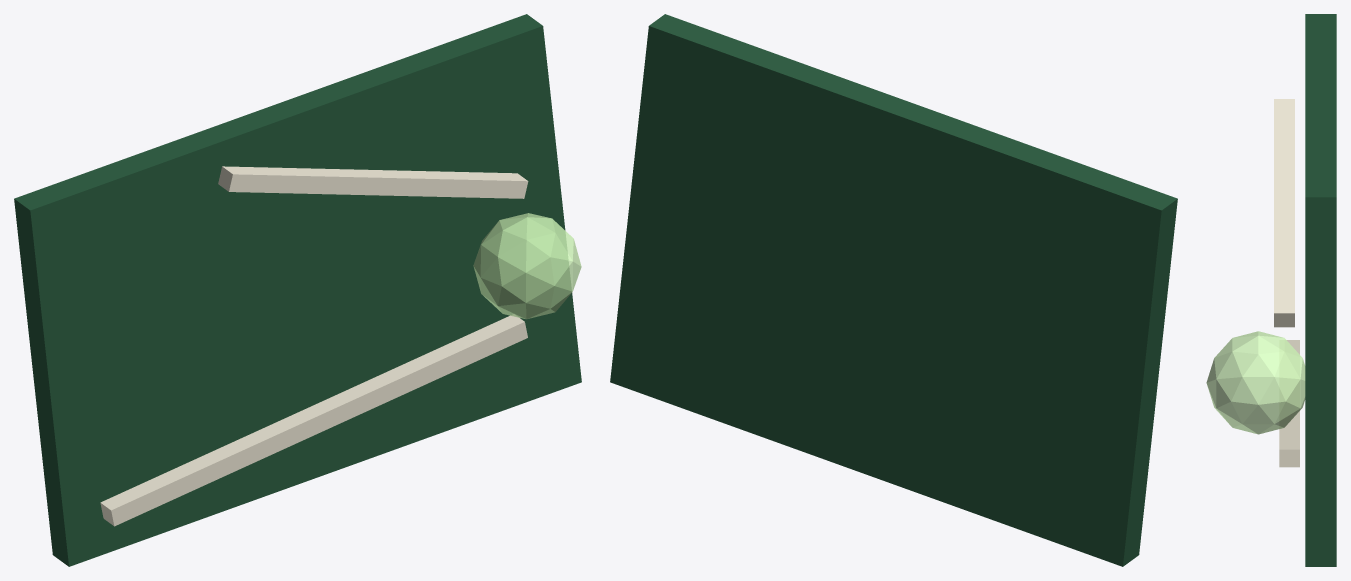
File: 02_world_prop_polish.glb
3 renders of one model, left to right at view 1: azimuth 30°, elevation 25°; view 2: azimuth 150°, elevation 25°; view 3: azimuth 270°, elevation 25°, orthographic. The views are drawn at different scales.
Parts seen in each view (by area): view 1: object_overlay_plate, edge_wear_a, glow_socket, edge_wear_b; view 2: object_overlay_plate; view 3: object_overlay_plate, glow_socket, edge_wear_b, edge_wear_a.
Boxes of the visible parts, x1,y1,x2,y2 form: object_overlay_plate: (14, 14, 581, 566); edge_wear_a: (100, 315, 527, 526); glow_socket: (473, 213, 581, 319); edge_wear_b: (218, 166, 528, 198); object_overlay_plate: (610, 14, 1177, 566); object_overlay_plate: (1305, 14, 1336, 566); glow_socket: (1206, 331, 1305, 434); edge_wear_b: (1274, 99, 1294, 327); edge_wear_a: (1279, 340, 1299, 467).
Bounding box in the file's own units: 1.18 × 0.8667 × 0.25.
